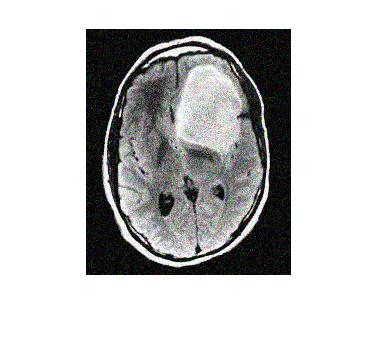Brain_Cancer: (179, 65, 239, 156)
